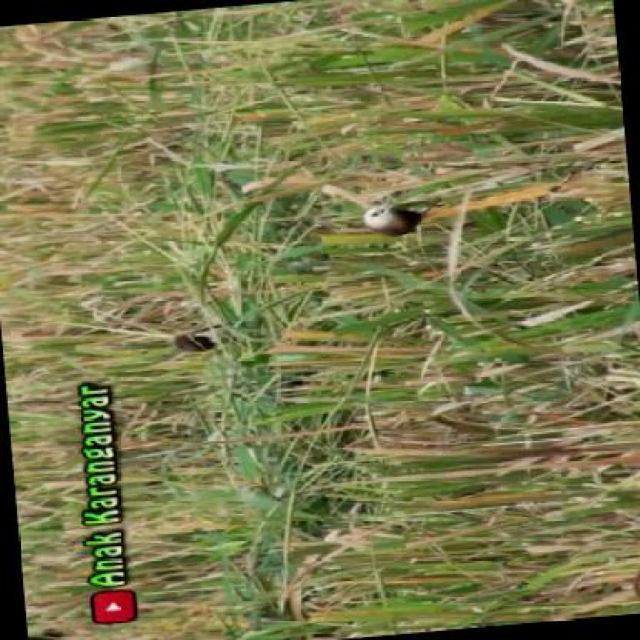Bird: (354, 194, 432, 239), (162, 319, 237, 365)
